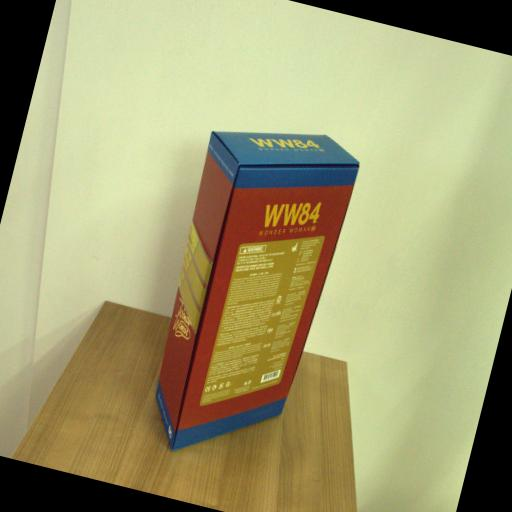WonderWoman: (132, 107, 366, 481)
